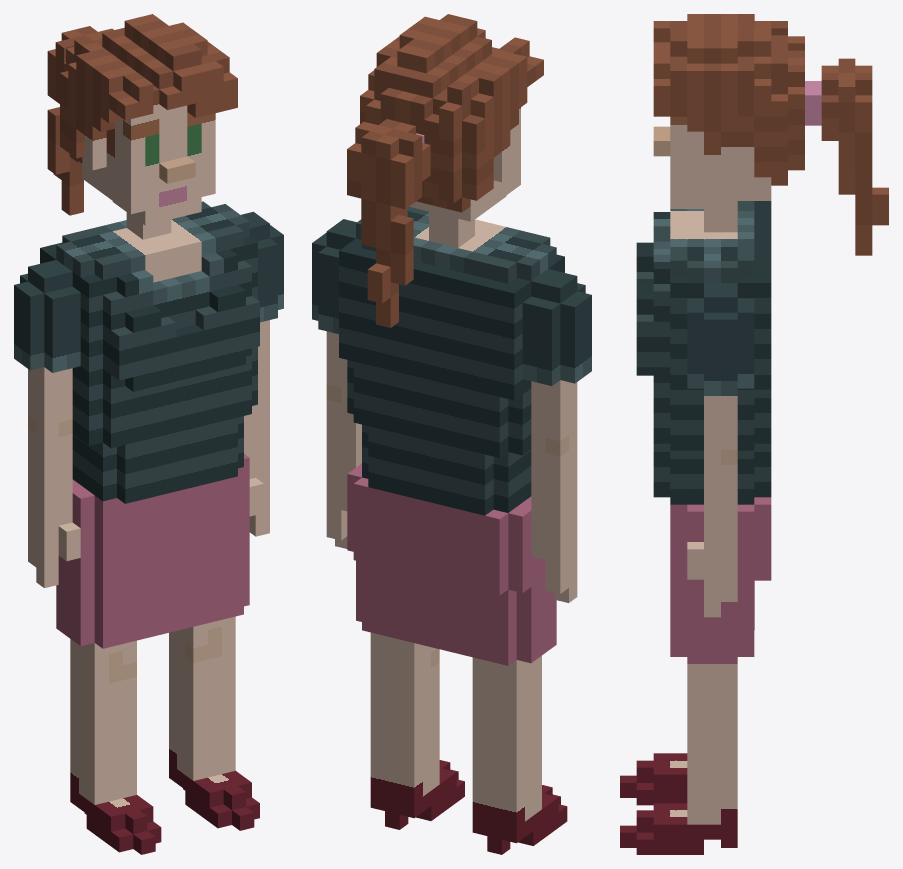
The model's file is girl.glb.
3 renders of one model, left to right at view 1: azimuth 30°, elevation 25°; view 2: azimuth 150°, elevation 25°; view 3: azimuth 270°, elevation 25°, orthographic. The views are drawn at different scales.
Visible parts, largest first — view 1: po4, po1, pl0, po3, po2; view 2: po4, po1, pl0, po3, po2; view 3: pl0, po1, po4, po2.
Part boxes in pixels (x1,y1,x2,y2): po4: [56, 453, 259, 854]; po1: [40, 201, 259, 503]; pl0: [47, 14, 237, 239]; po3: [14, 260, 80, 588]; po2: [241, 211, 283, 536]; po4: [347, 463, 567, 854]; po1: [339, 207, 564, 515]; pl0: [347, 14, 543, 327]; po3: [522, 269, 591, 602]; po2: [312, 219, 361, 548]; pl0: [653, 14, 888, 255]; po1: [636, 201, 771, 504]; po4: [620, 497, 771, 854]; po2: [687, 283, 754, 617].
Size of the model in its own units: 18 by 52 by 16.
5 materials, 5 textured.
